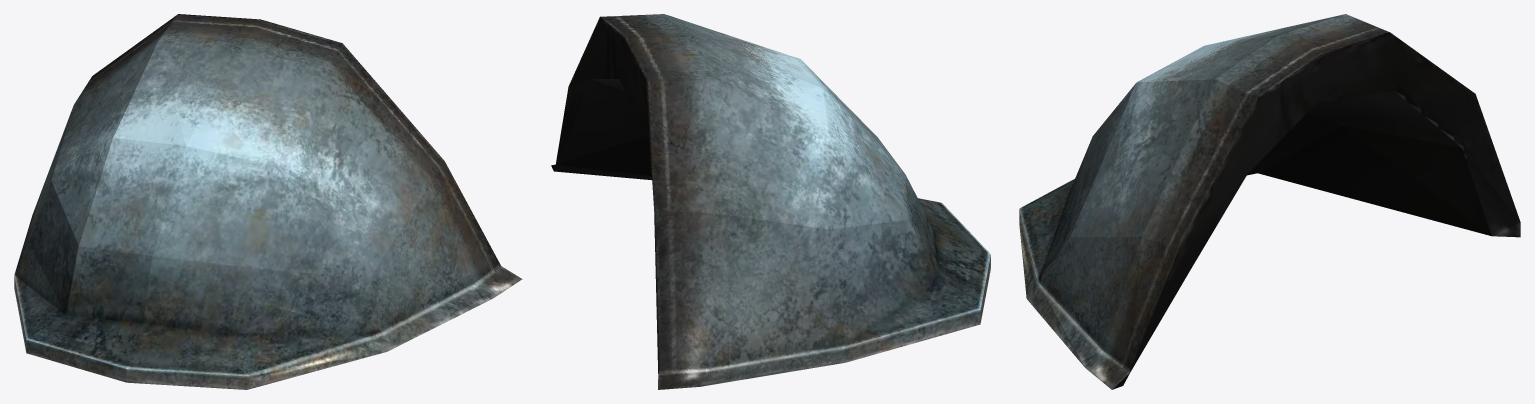
File: TASZKA.glb
3 renders of one model, left to right at view 1: azimuth 30°, elevation 25°; view 2: azimuth 150°, elevation 25°; view 3: azimuth 270°, elevation 25°, orthographic. The views are drawn at different scales.
Visible parts, largest first — view 1: TASZKA; view 2: TASZKA; view 3: TASZKA.
Boxes of the visible parts, x1,y1,x2,y2 form: TASZKA: (14,14,522,389); TASZKA: (551,14,990,389); TASZKA: (1019,14,1520,389).
Size of the model in its own units: 0.3527 by 0.1742 by 0.3162.
Materials: 1 (1 with a texture image).
